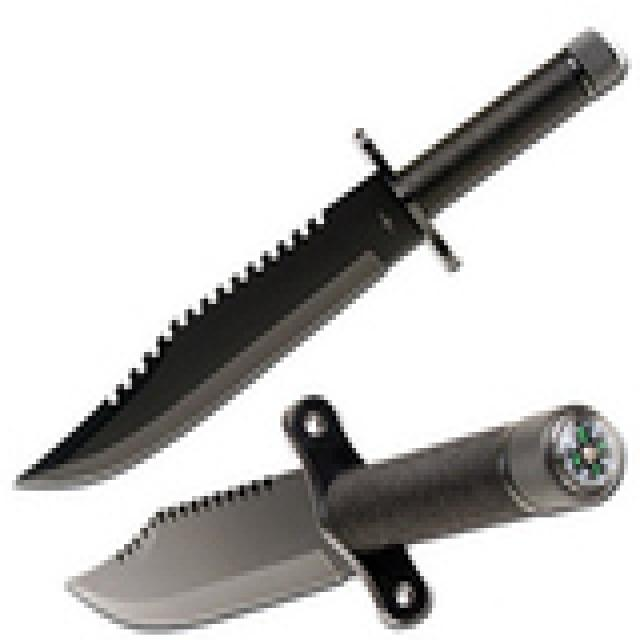Knife: (4, 32, 628, 640)
